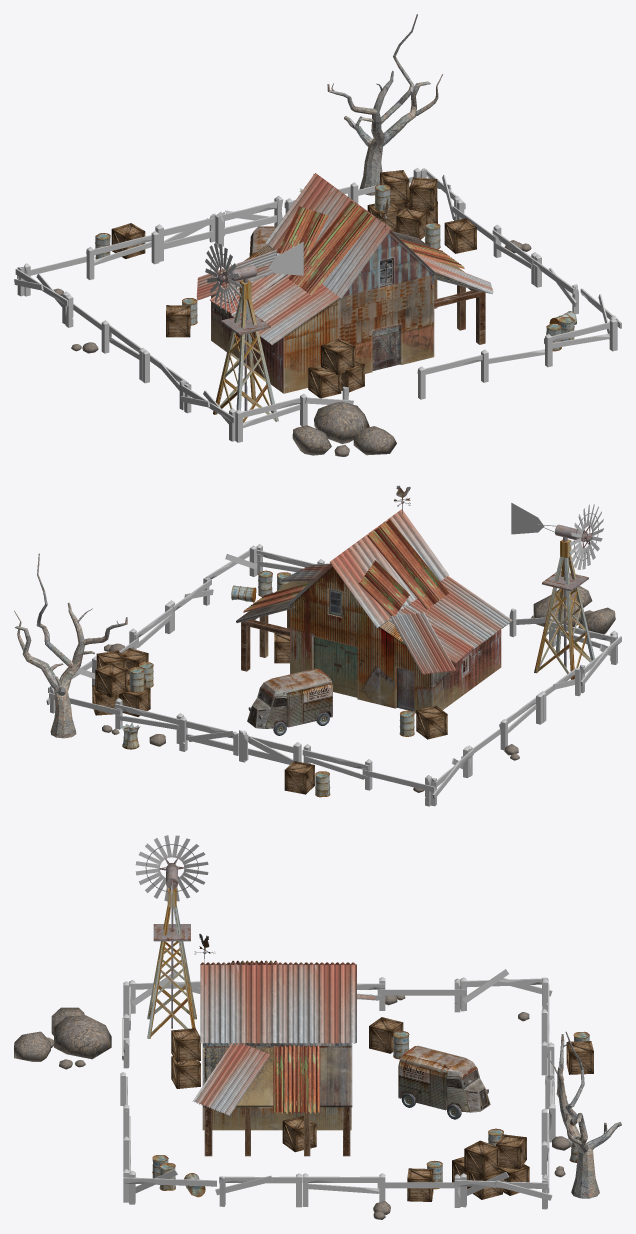
File: mh_module_barn_000.fbx
3 views of the same model, one above another, from view 1: azimuth 30°, elevation 25°; view 2: azimuth 150°, elevation 25°; view 3: azimuth 270°, elevation 25° (orthographic). The views are drawn at different scales.
Visible parts, largest first — view 1: barn, windmill_structure, tree, stone3, elica, box5, box10, stone4, box3, box12, stone5, windmill_tail (+14 smaller); view 2: barn, truck, windmill_structure, tree, elica, box9, box, box1, door_section1, windmill_tail, door_section3, stone3 (+9 smaller); view 3: barn, truck, windmill_structure, tree, elica, stone3, box12, box5, stone4, box9, box, box2 (+12 smaller).
Boxes of the visible parts, x1,y1,x2,y2 form: barn: (196, 173, 493, 393); windmill_structure: (213, 278, 278, 422); tree: (327, 14, 442, 195); stone3: (314, 401, 369, 443); elica: (205, 243, 241, 312); box5: (321, 338, 355, 374); box10: (444, 218, 476, 253); stone4: (353, 426, 396, 455); box3: (308, 364, 341, 398); box12: (409, 177, 437, 210); stone5: (292, 425, 331, 455); windmill_tail: (255, 242, 303, 275); barn: (236, 485, 512, 713); truck: (247, 668, 332, 735); windmill_structure: (534, 537, 594, 679); tree: (14, 553, 127, 738); elica: (569, 504, 603, 569); box9: (95, 663, 127, 697); box: (416, 705, 447, 739); box1: (284, 761, 314, 794); door_section1: (179, 716, 233, 751); windmill_tail: (511, 502, 556, 534); door_section3: (242, 733, 293, 764); stone3: (533, 593, 582, 626); barn: (192, 933, 375, 1156); truck: (398, 1045, 490, 1119); windmill_structure: (147, 887, 196, 1038); tree: (550, 1031, 621, 1198); elica: (135, 835, 208, 901); stone3: (54, 1015, 111, 1059); box12: (464, 1140, 499, 1177); box5: (171, 1028, 200, 1062); stone4: (14, 1031, 50, 1061); box9: (496, 1134, 526, 1169); box: (369, 1017, 403, 1053); box2: (282, 1115, 316, 1152).
Size of the model in its own units: 21.56 by 8.31 by 24.46.
